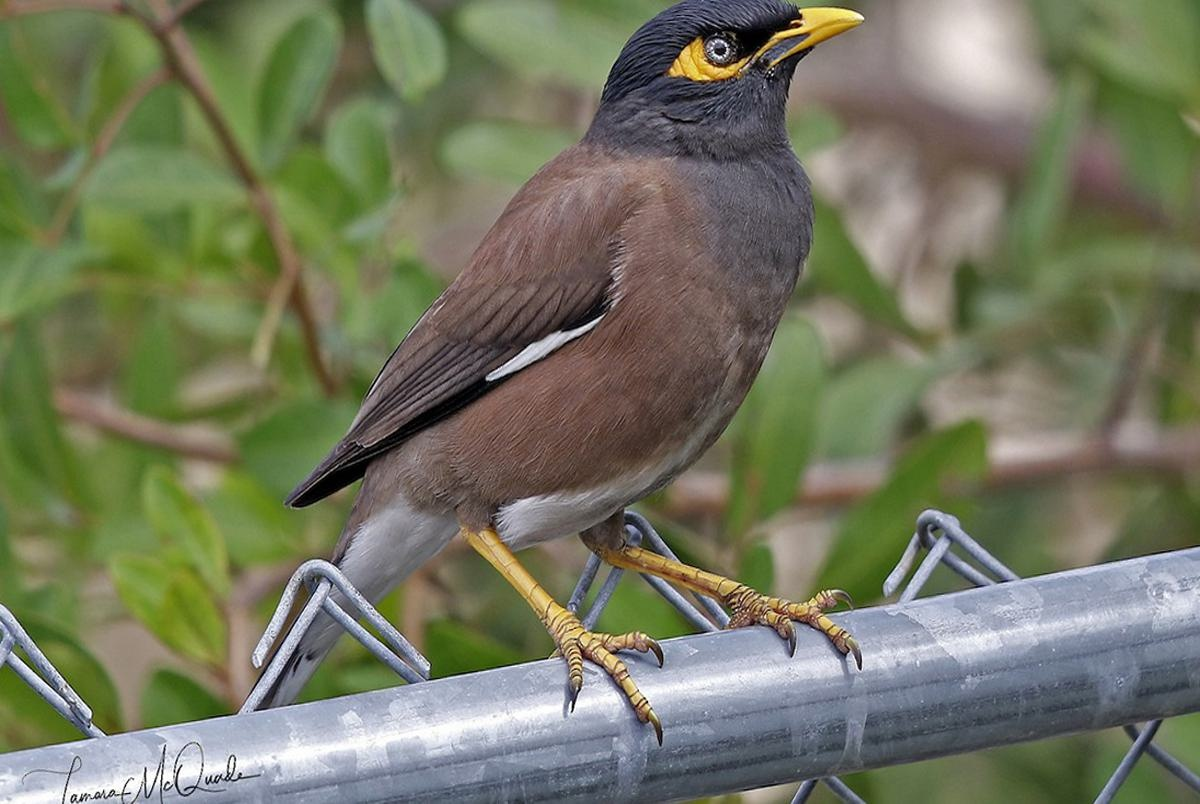myna: (245, 5, 885, 687)
